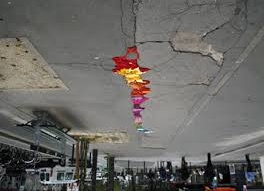pothole: (167, 27, 236, 66)
